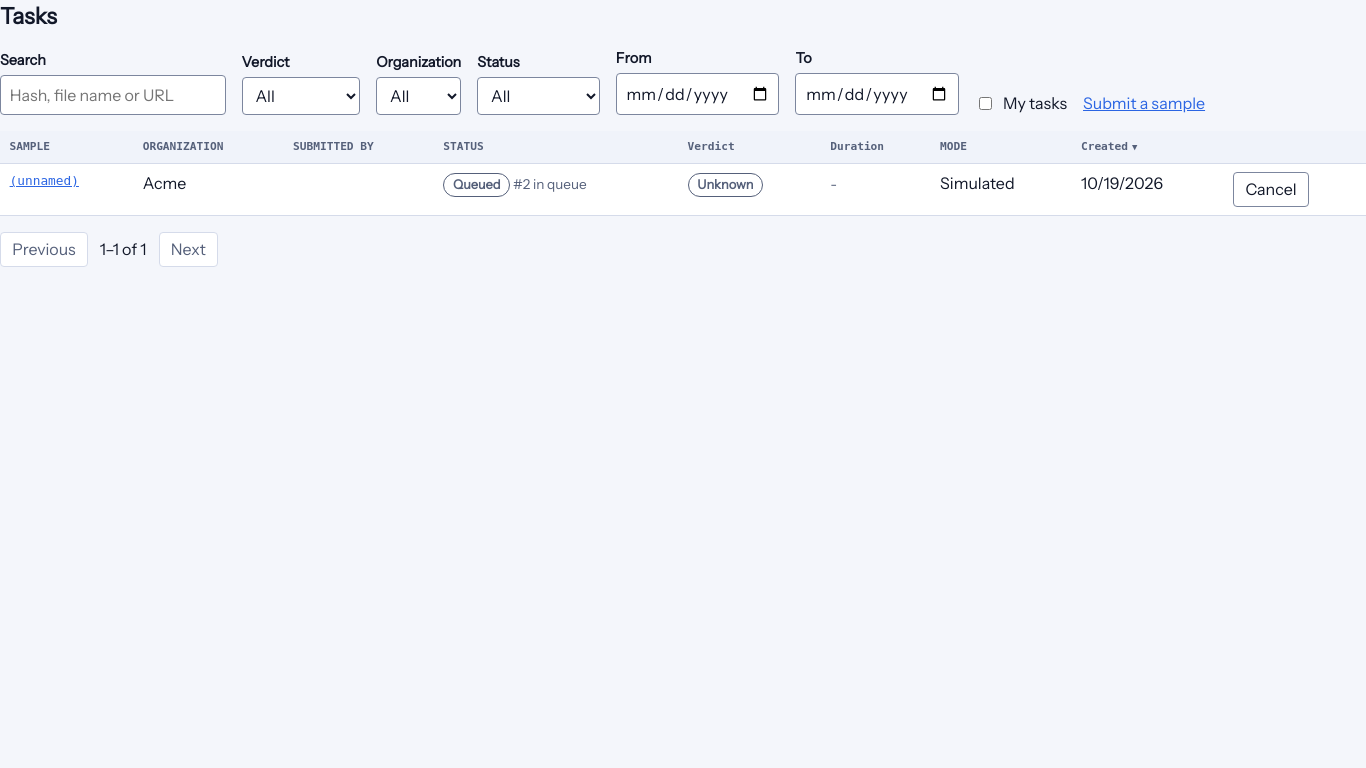
Test: TasksPage › asks before cancelling, then toasts "Task cancelled"
Click the button "Cancel": (1271, 190) top-left (1233, 172), bottom-right (1309, 207)
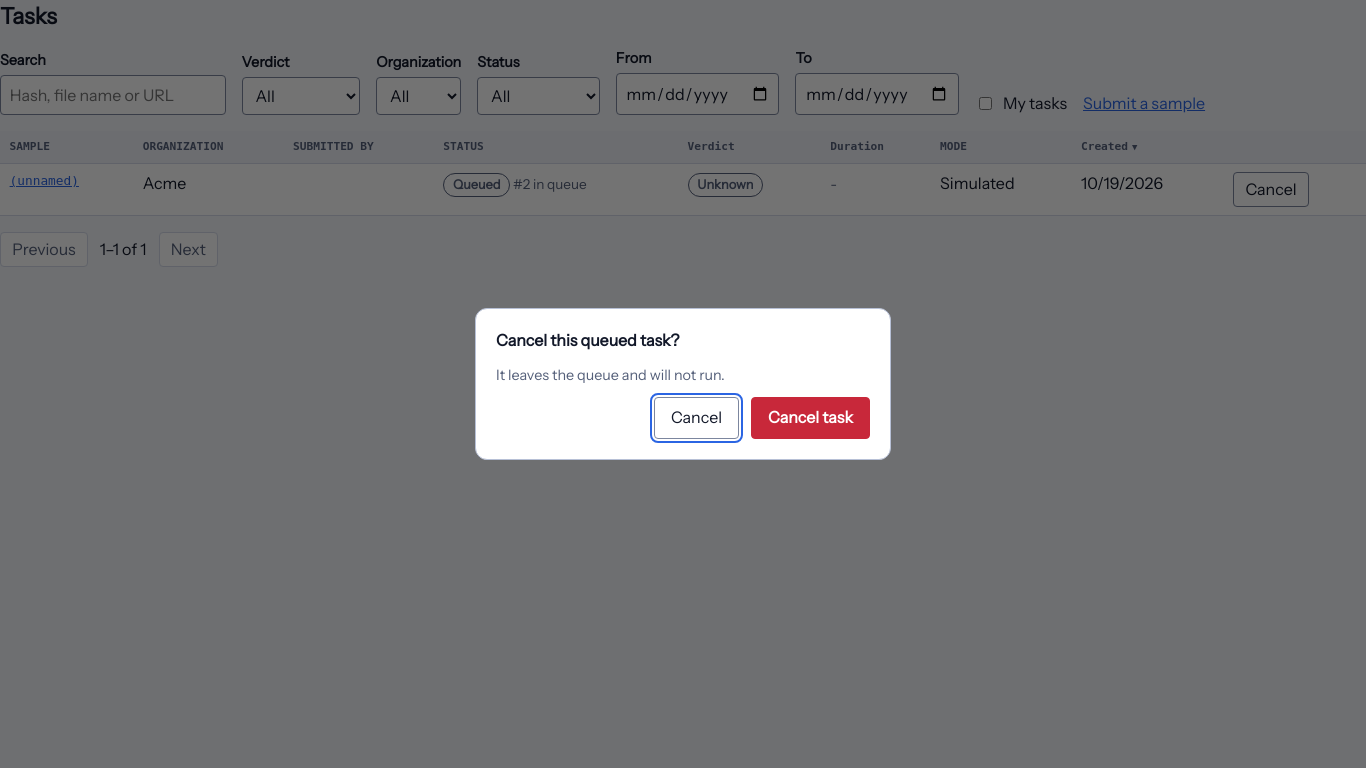
Click the button "Cancel": (696, 418) top-left (654, 397), bottom-right (739, 439)
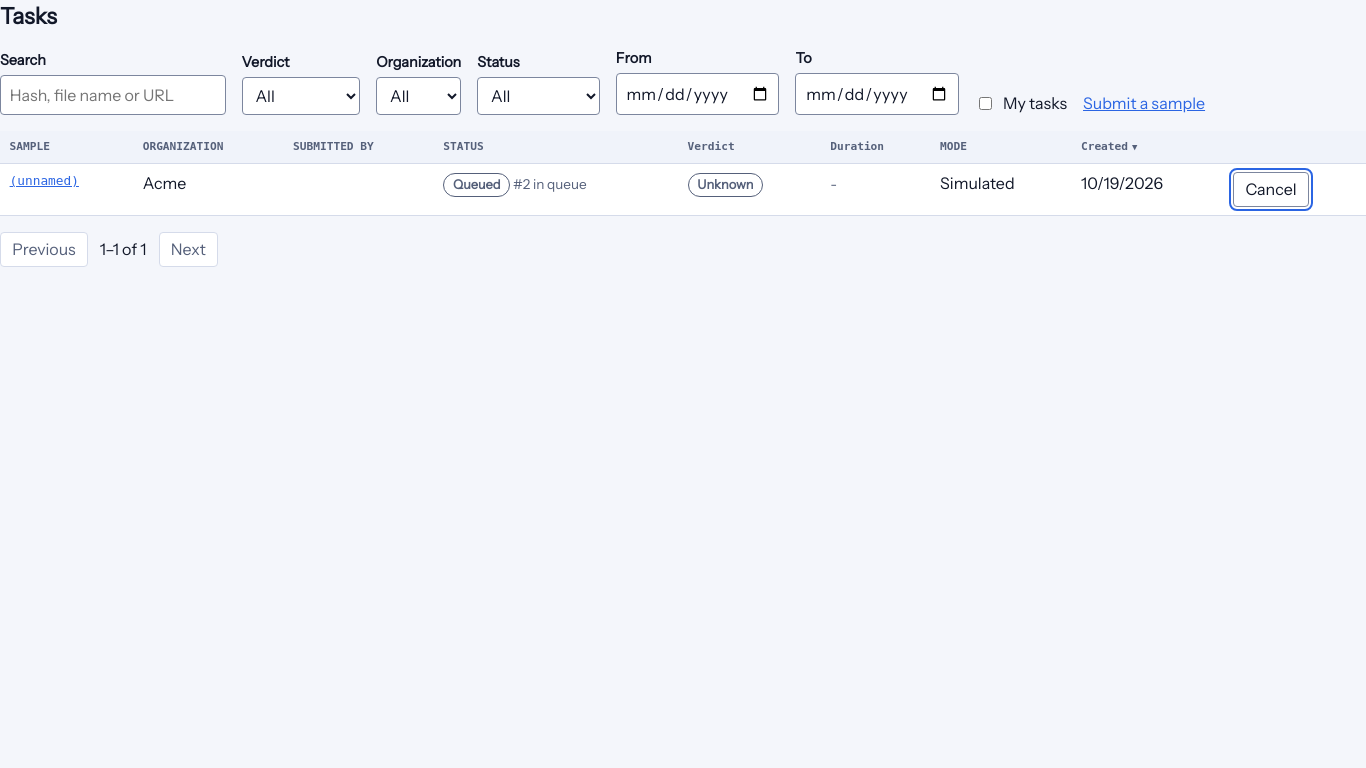
Click the button "Cancel": (1271, 190) top-left (1233, 172), bottom-right (1309, 207)
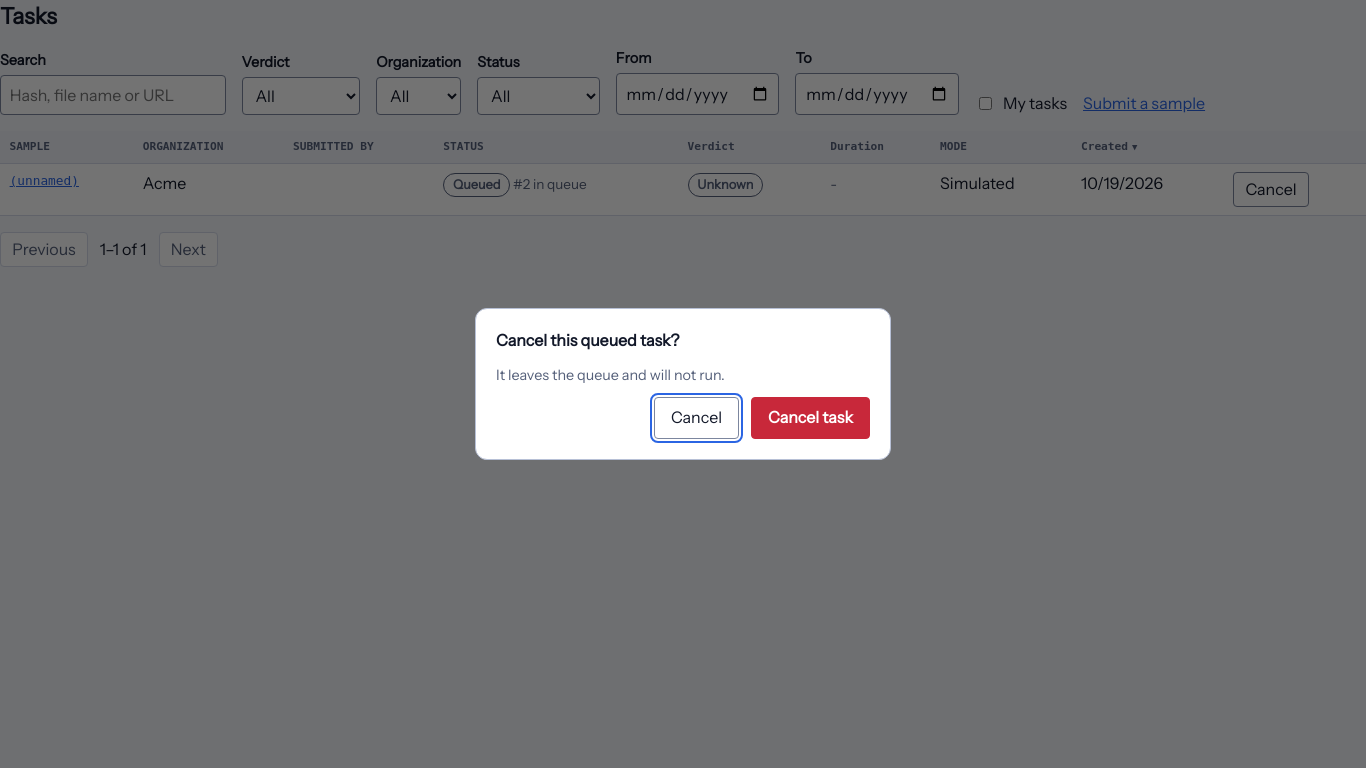
Click the button "Cancel task": (810, 418) top-left (751, 397), bottom-right (870, 439)
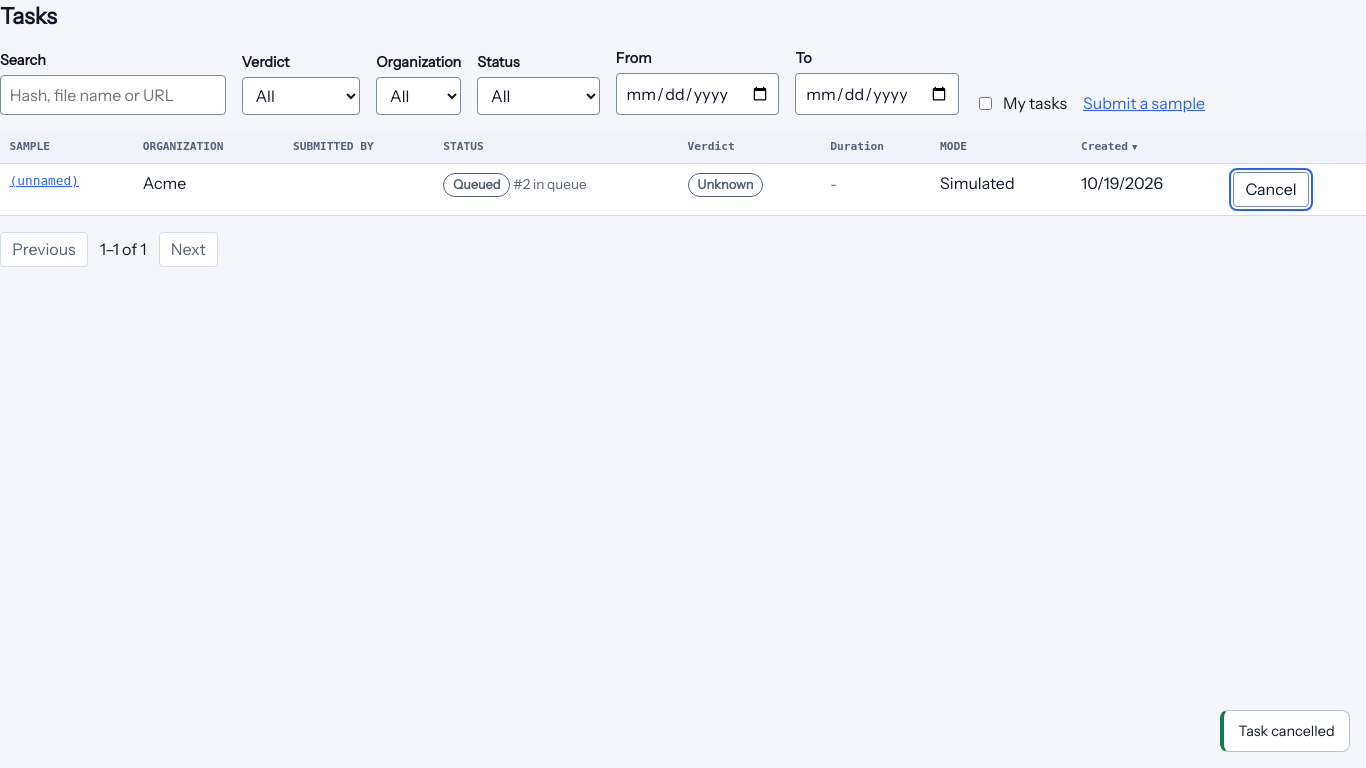
expect the text "Task cancelled" is shown: met, box top-left (1238, 720), bottom-right (1335, 741)
